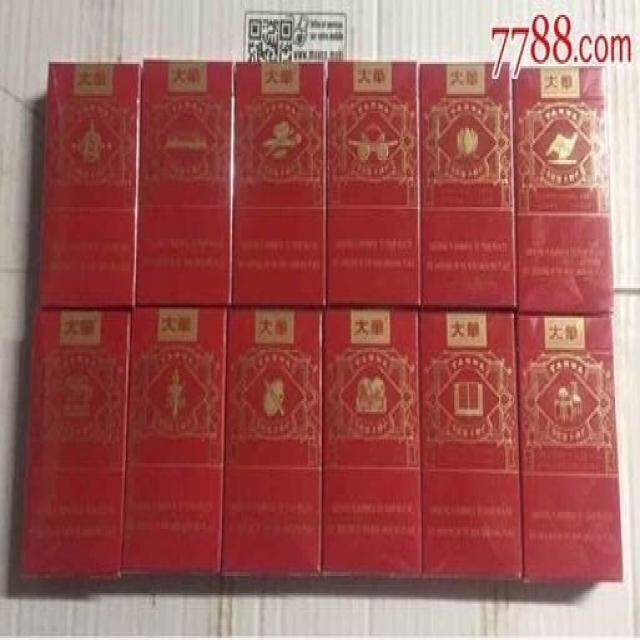box: (20, 309, 132, 582), (121, 305, 227, 582), (515, 316, 624, 580), (419, 314, 523, 580), (322, 309, 423, 580), (222, 307, 322, 580), (39, 60, 142, 309), (512, 66, 614, 314), (136, 60, 235, 305), (420, 62, 516, 314), (231, 62, 327, 307), (326, 60, 420, 309)
